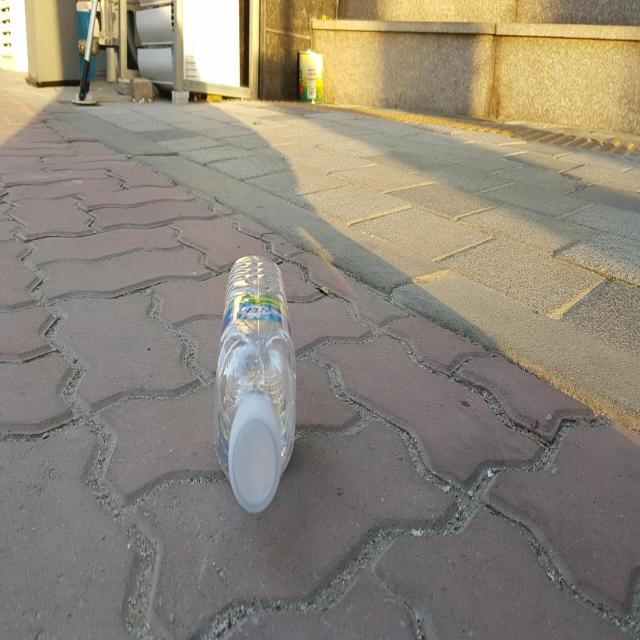plastic: (214, 254, 296, 512)
